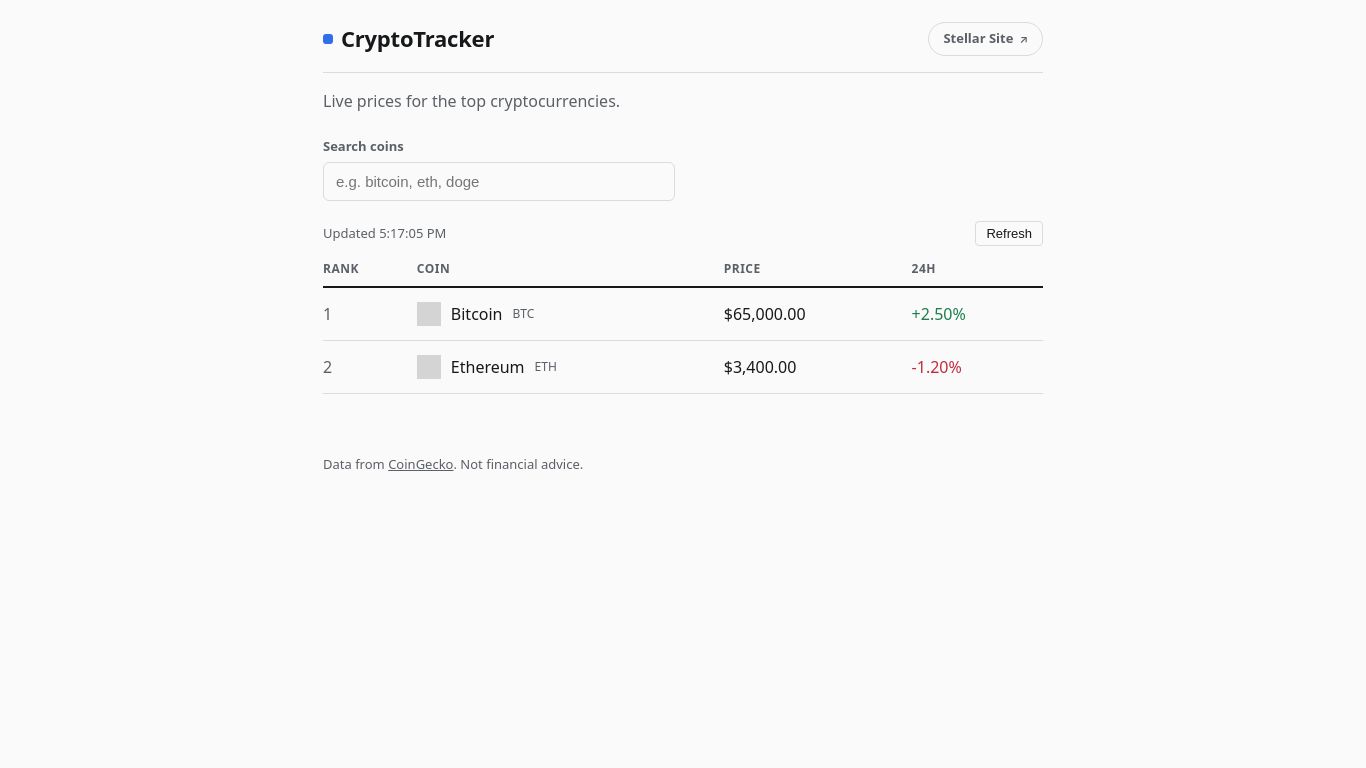
Test: CoinDetailModal › opens on clicking a coin, shows the chart, and closes on Escape
Check: the table is shown, box [323, 260, 1043, 394]
Click the button "Bitcoin BTC" at [477, 314], box [417, 298, 714, 330]
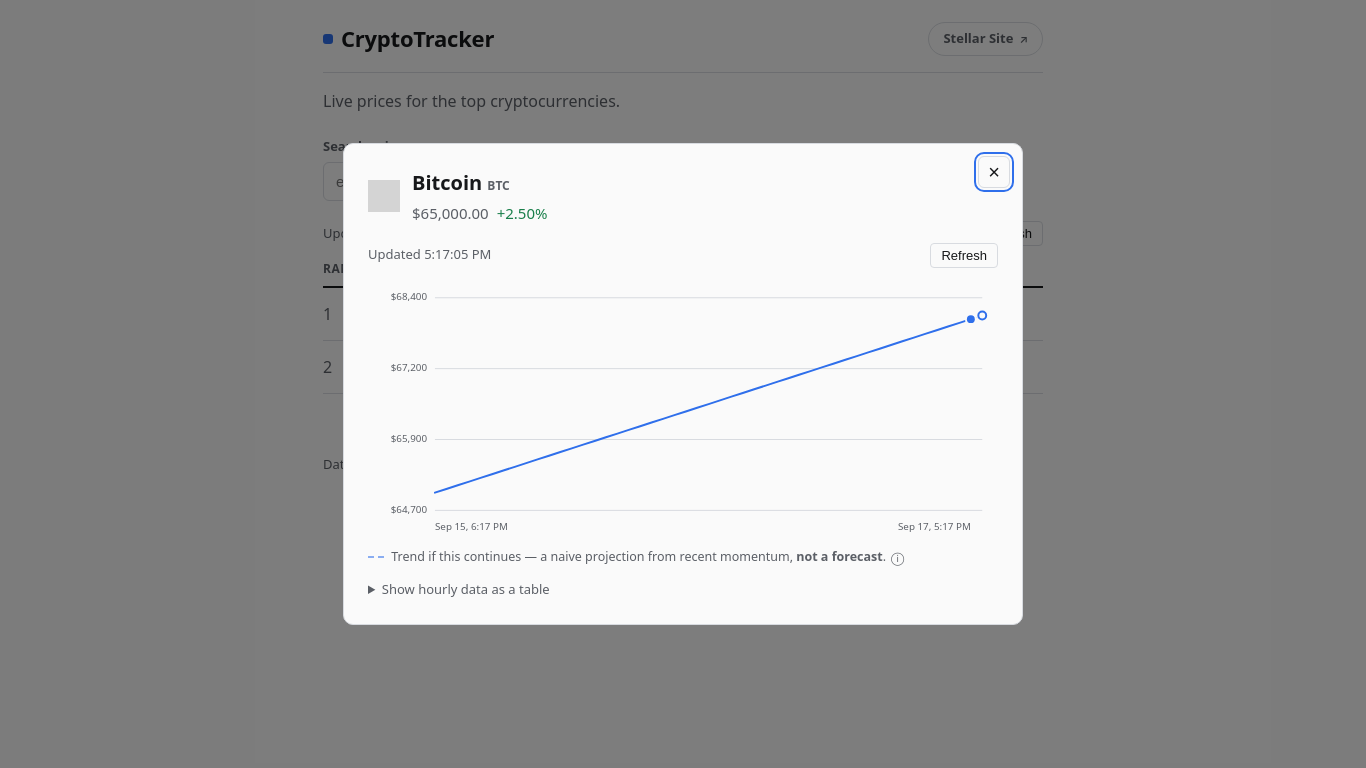
Check: the dialog shows "Bitcoin", box [412, 169, 482, 196]
Check: the picture named "Hourly price for Bitcoin" is shown, box [368, 282, 998, 538]
Check: the text "not a forecast" is shown, box [796, 548, 883, 565]
Press Escape
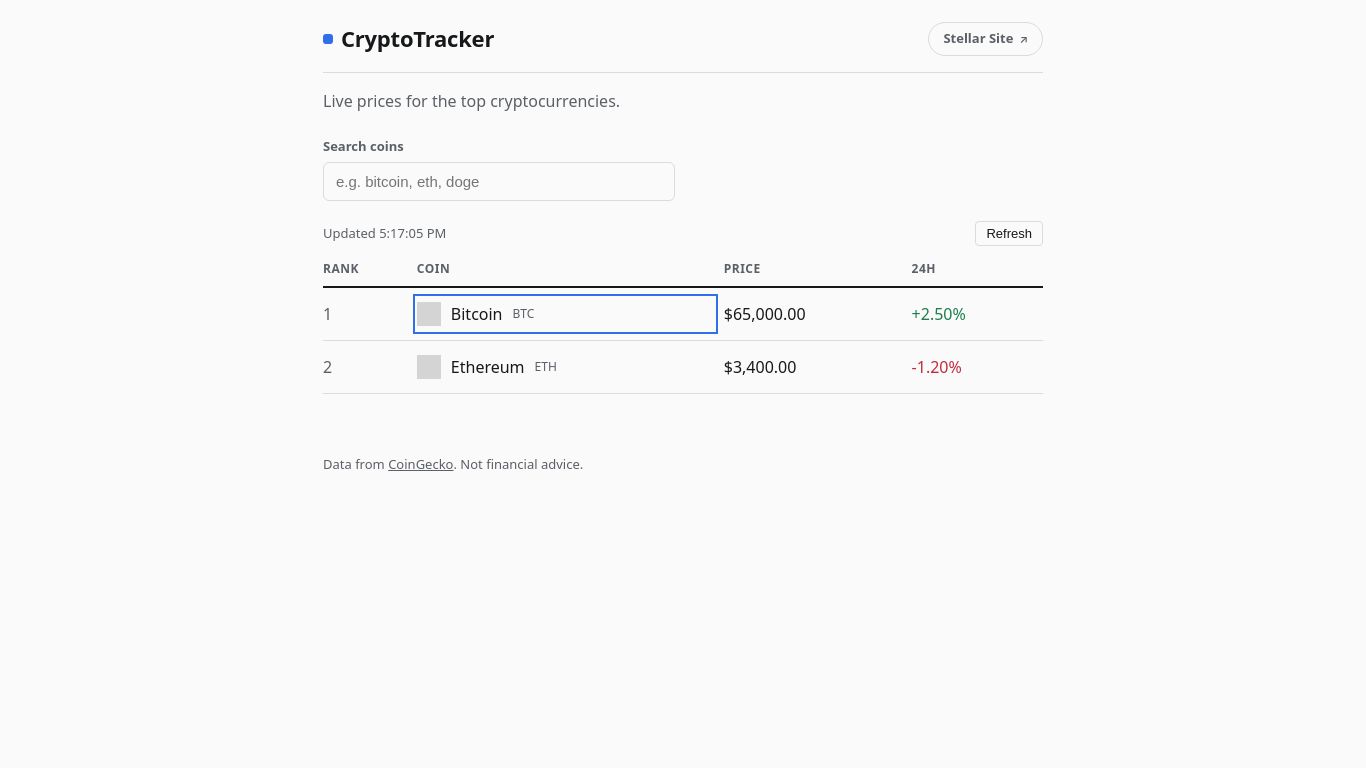
Check: the dialog is gone
